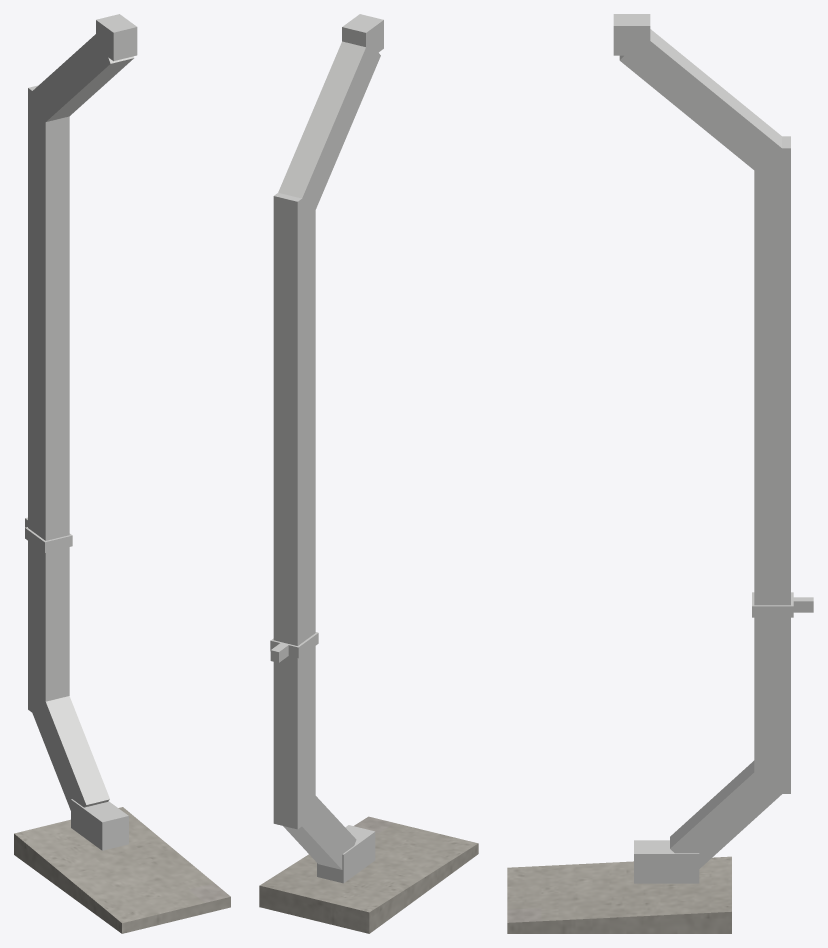
Rendered from gdownspout.glb.
3 renders of one model, left to right at view 1: azimuth 30°, elevation 25°; view 2: azimuth 150°, elevation 25°; view 3: azimuth 270°, elevation 25°, orthographic. The views are drawn at different scales.
Visible parts, largest first — view 1: gdownspout_gutter, gdownspout_concrete; view 2: gdownspout_gutter, gdownspout_concrete; view 3: gdownspout_gutter, gdownspout_concrete.
Part boxes in pixels (x1=…): gdownspout_gutter: x1=25, y1=14, x2=137, y2=850; gdownspout_concrete: x1=14, y1=807, x2=230, y2=933; gdownspout_gutter: x1=270, y1=14, x2=383, y2=883; gdownspout_concrete: x1=259, y1=816, x2=478, y2=933; gdownspout_gutter: x1=613, y1=14, x2=813, y2=883; gdownspout_concrete: x1=507, y1=856, x2=731, y2=933.
Bounding box in the file's own units: 0.32 × 2.4 × 0.75.
Materials: 2 (1 with a texture image).
